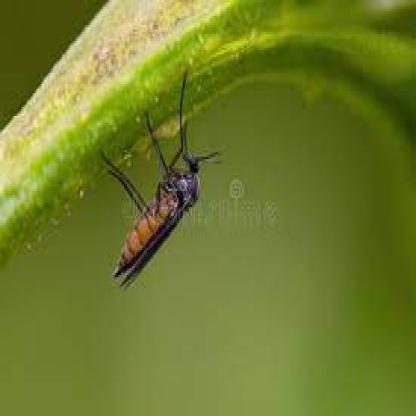sawfly: (98, 68, 224, 290)
